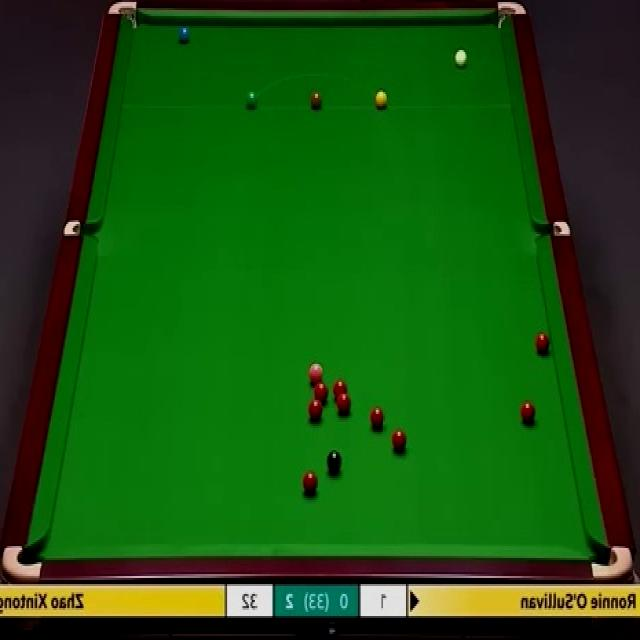black-ball: (325, 450, 342, 473)
blue-ball: (179, 24, 191, 44)
brown-ball: (309, 90, 322, 110)
green-ball: (245, 90, 259, 111)
pink-ball: (307, 360, 323, 385)
red-ball: (334, 392, 352, 416), (308, 397, 324, 422), (390, 429, 408, 451), (521, 398, 536, 424), (312, 381, 328, 405), (332, 378, 348, 400), (534, 333, 550, 355), (371, 405, 386, 428), (303, 470, 317, 492)
white-ball: (455, 49, 467, 68)
yellow-ball: (374, 89, 389, 110)
